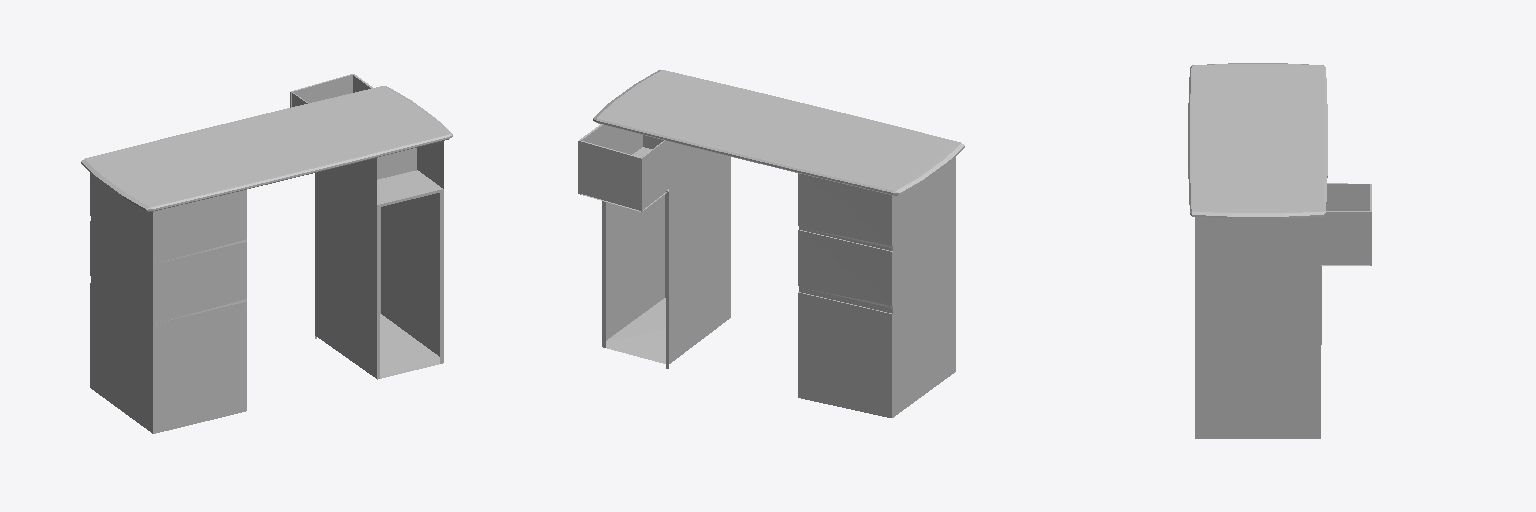
Rendered from desk_with_drawer.obj.
The picture shows the model from 3 angles: view 1: azimuth 30°, elevation 25°; view 2: azimuth 150°, elevation 25°; view 3: azimuth 270°, elevation 25°; orthographic projection.
Visible parts, largest first — view 1: Frame_Cube.001, TableTop_Cube, Drawer_Cube.003; view 2: Frame_Cube.001, TableTop_Cube, Drawer_Cube.003; view 3: Frame_Cube.001, TableTop_Cube, Drawer_Cube.003.
Boxes of the visible parts, <box> form: Frame_Cube.001: <box>90,141,443,433</box>; TableTop_Cube: <box>81,86,452,211</box>; Drawer_Cube.003: <box>290,74,416,179</box>; Frame_Cube.001: <box>602,142,955,417</box>; TableTop_Cube: <box>593,70,964,195</box>; Drawer_Cube.003: <box>578,124,668,211</box>; Frame_Cube.001: <box>1195,217,1321,438</box>; TableTop_Cube: <box>1188,63,1327,218</box>; Drawer_Cube.003: <box>1321,183,1371,265</box>.
Bounding box in the file's own units: 260 × 186 × 132.